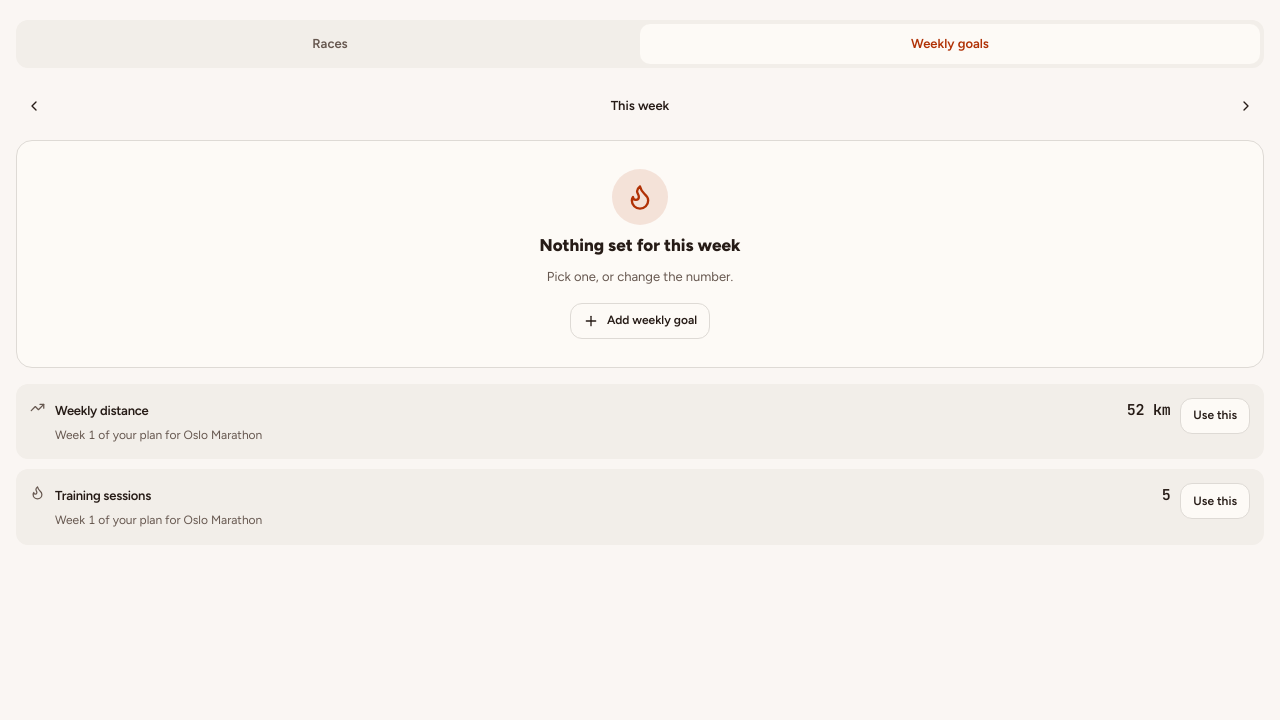
Scenario: GoalsScreen — stepping into next week › goes forward one week when the block covers it
Click the button named "next week" at (1246, 106), box [1228,88,1264,124]
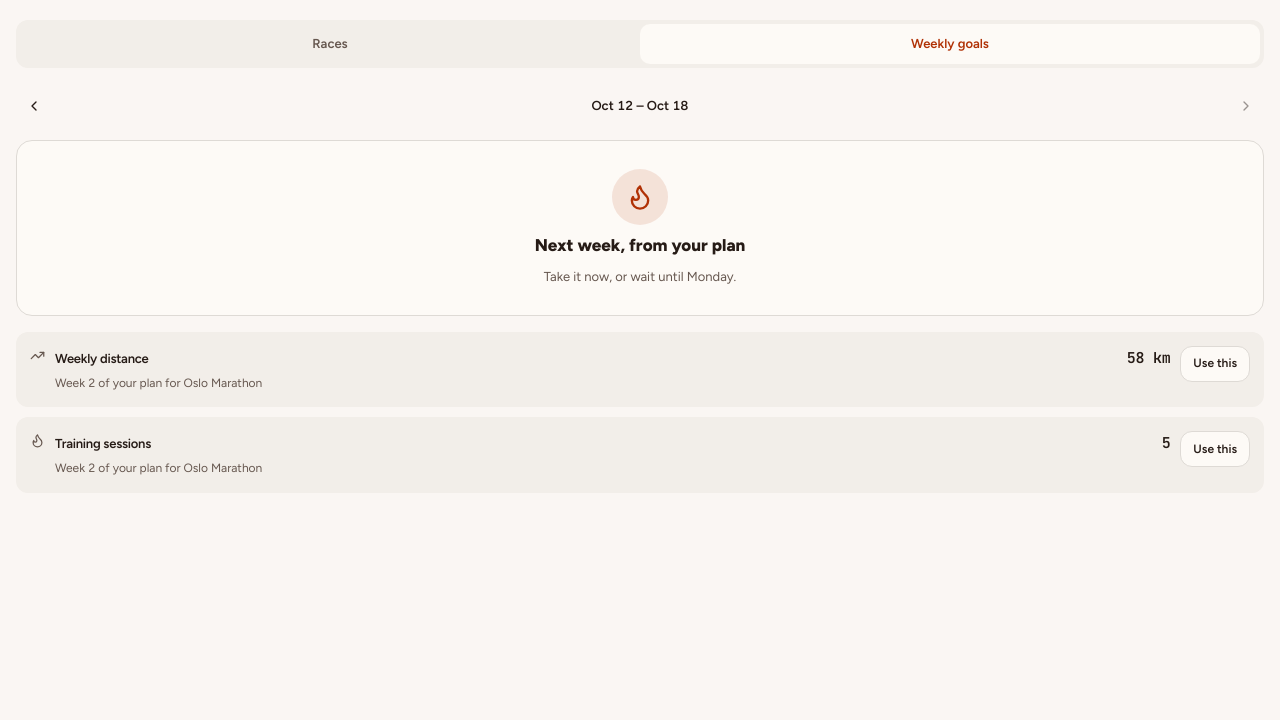
Result: the text "58 km" is shown at [1127,346,1170,370]
